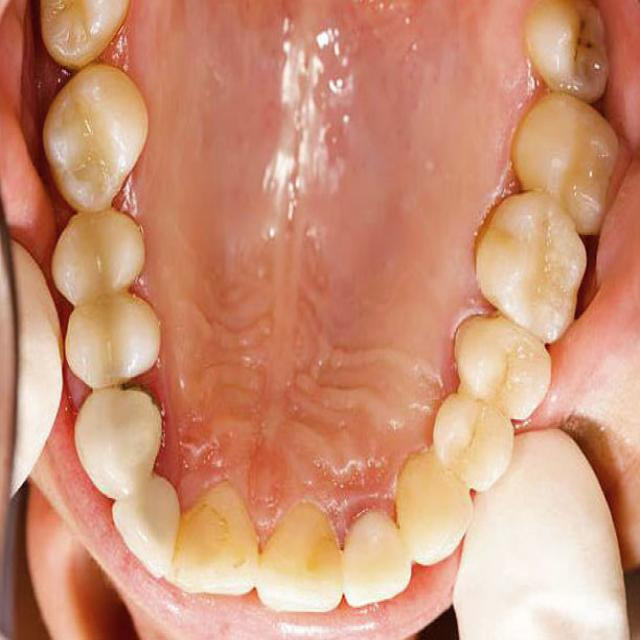caries: (567, 7, 605, 80)
